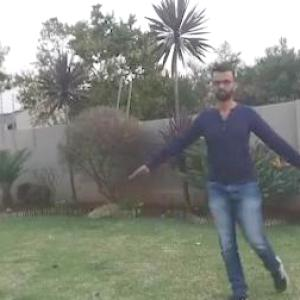land: (156, 76, 299, 259)
